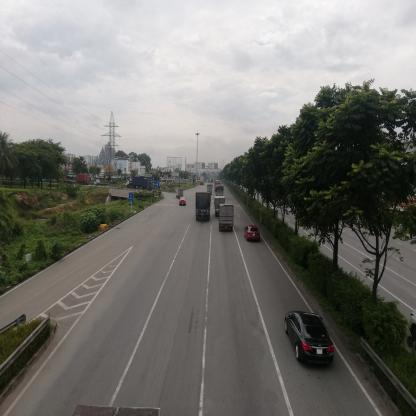car: (286, 314, 336, 369), (245, 225, 261, 241), (181, 198, 187, 207)
container: (127, 178, 155, 192), (70, 173, 92, 183)
truck: (196, 193, 212, 223), (220, 205, 236, 233), (216, 184, 225, 196), (215, 198, 225, 208), (177, 187, 184, 197), (95, 181, 101, 186)
